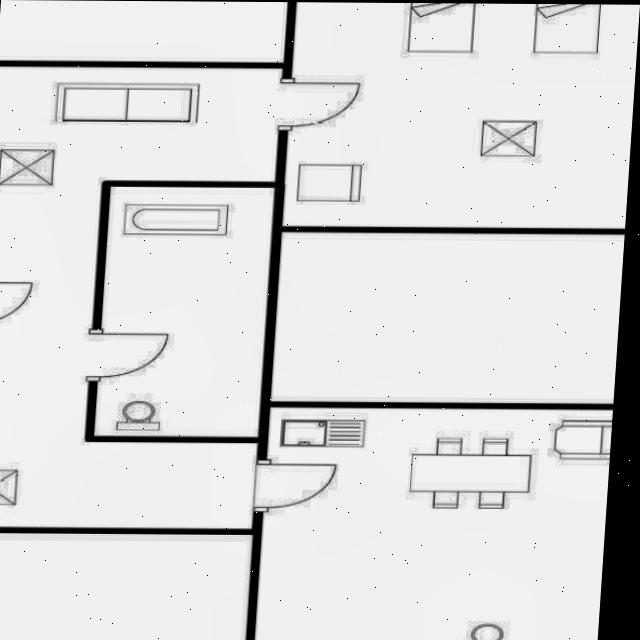room: (0, 67, 282, 529), (255, 407, 613, 640), (282, 2, 640, 228), (94, 177, 273, 446)
